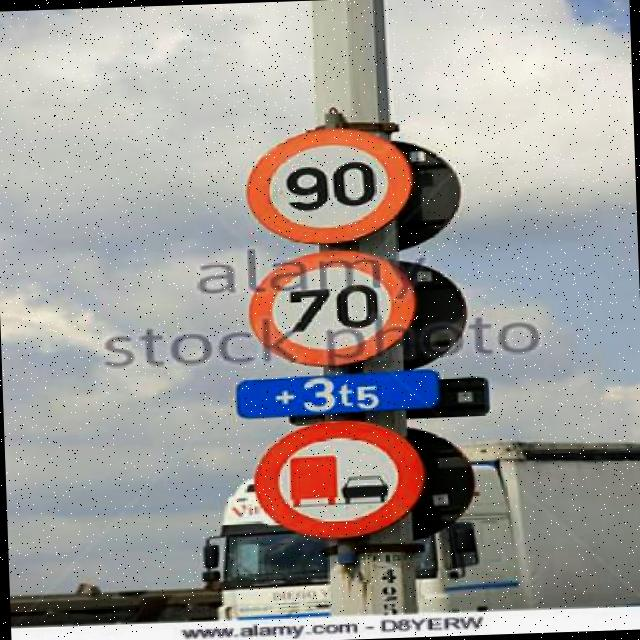Ograniczenie predkosci do 90: (245, 125, 412, 243)
